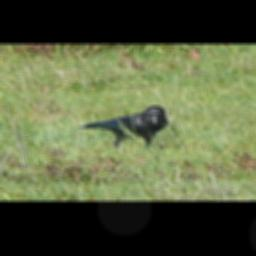Crow: (74, 106, 168, 150)
